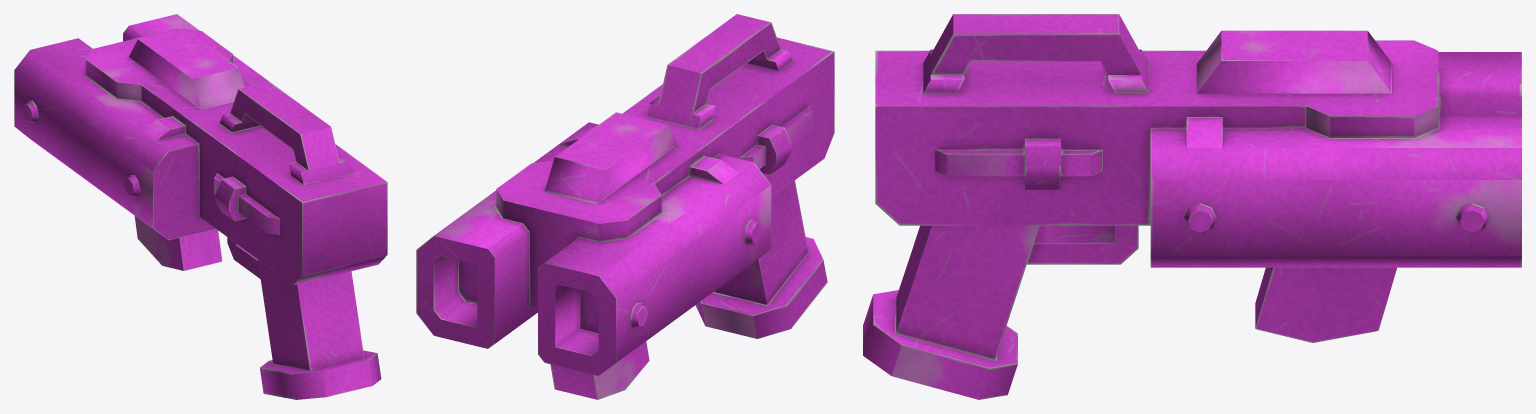
Rendered from blaster-l.glb.
3 views of the same model, side by side, from view 1: azimuth 30°, elevation 25°; view 2: azimuth 150°, elevation 25°; view 3: azimuth 270°, elevation 25° (orthographic). The views are drawn at different scales.
Parts seen in each view (by area): view 1: blaster-l; view 2: blaster-l; view 3: blaster-l.
Part boxes in pixels (x1,y1,x2,y2): blaster-l: (14,14,387,399); blaster-l: (416,14,834,399); blaster-l: (863,14,1521,399).
Size of the model in its own units: 0.2438 by 0.3279 by 0.5504.
Materials: 1 (1 with a texture image).
